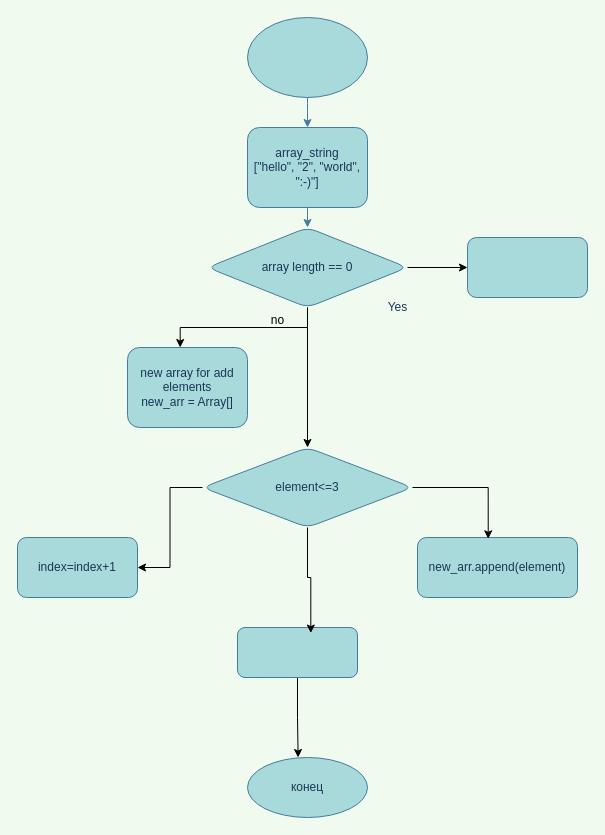
This 605x835 diagram has some shape labels left out. Here are the shapes that lost their labels. From the top down, the centre of each, then its label:
the point at 307,57: начало
the point at 527,267: return empty array
the point at 297,652: return new_arr
